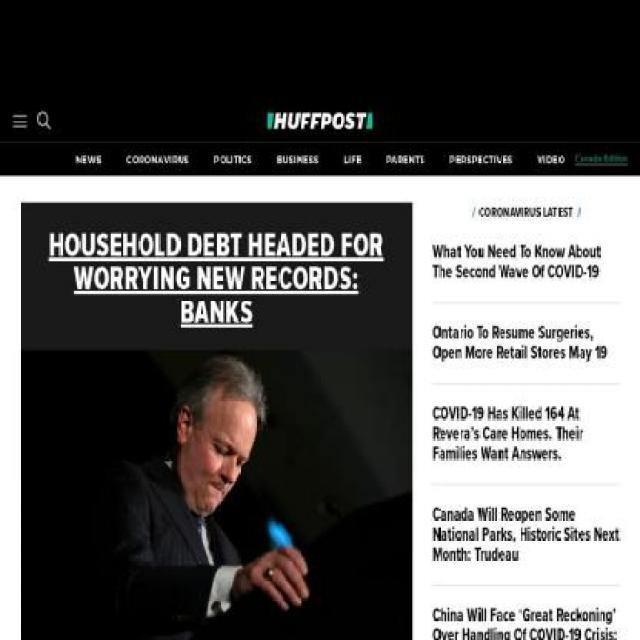button: (20, 350, 414, 639), (432, 404, 620, 464), (432, 506, 620, 566), (432, 242, 620, 282), (432, 323, 620, 363), (432, 606, 620, 640), (268, 112, 372, 130), (449, 152, 514, 166), (126, 152, 189, 166), (277, 152, 320, 166), (386, 152, 425, 166), (214, 152, 252, 166), (575, 154, 628, 164), (537, 152, 565, 166), (76, 152, 102, 166), (12, 111, 28, 131), (343, 152, 362, 166)
